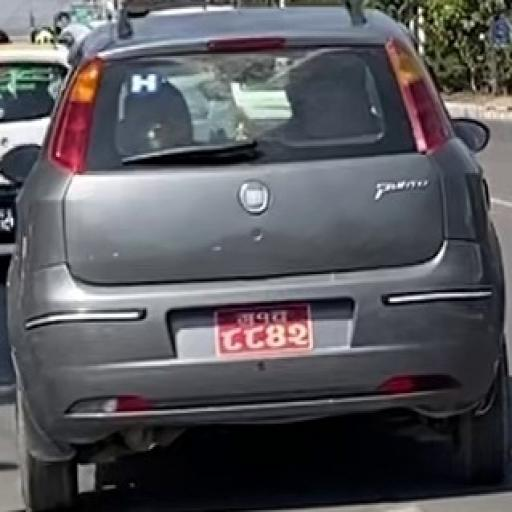license_plate: (210, 298, 314, 363)
